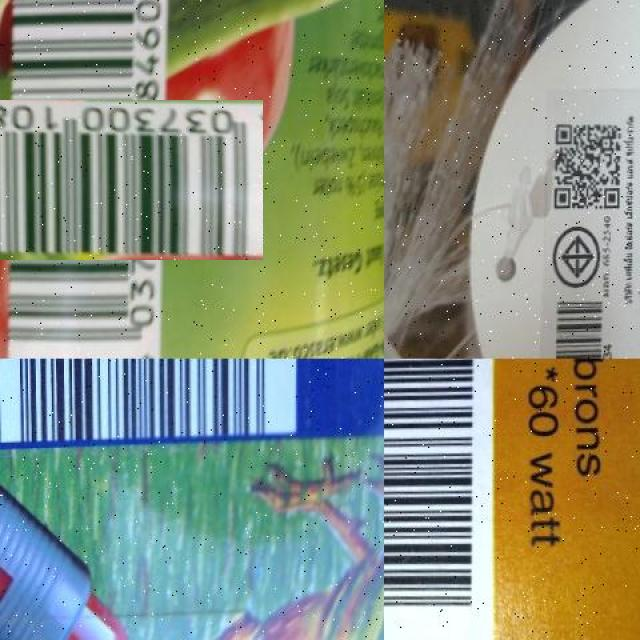Barcode: (0, 50, 213, 310), (384, 359, 494, 640), (0, 359, 295, 449), (544, 292, 612, 359)
